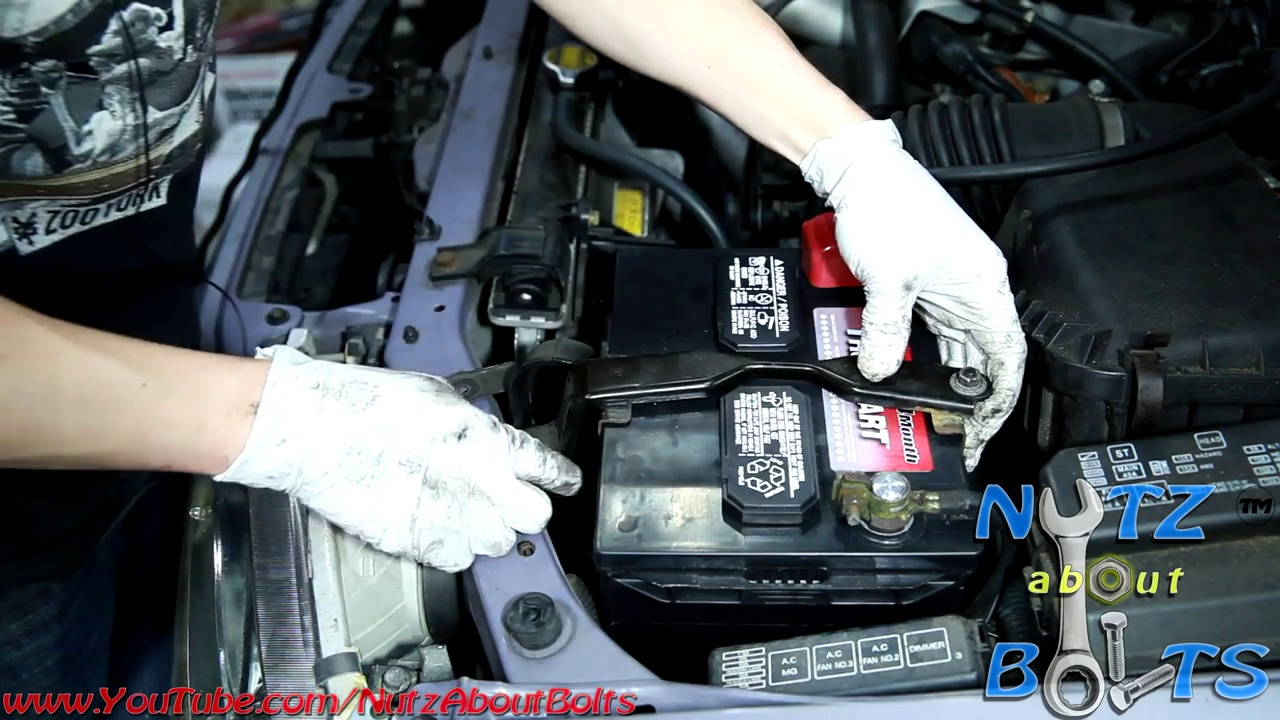battery: (604, 220, 998, 588)
neg_connected: (789, 453, 997, 546)
pos_touched: (762, 175, 1005, 352)
